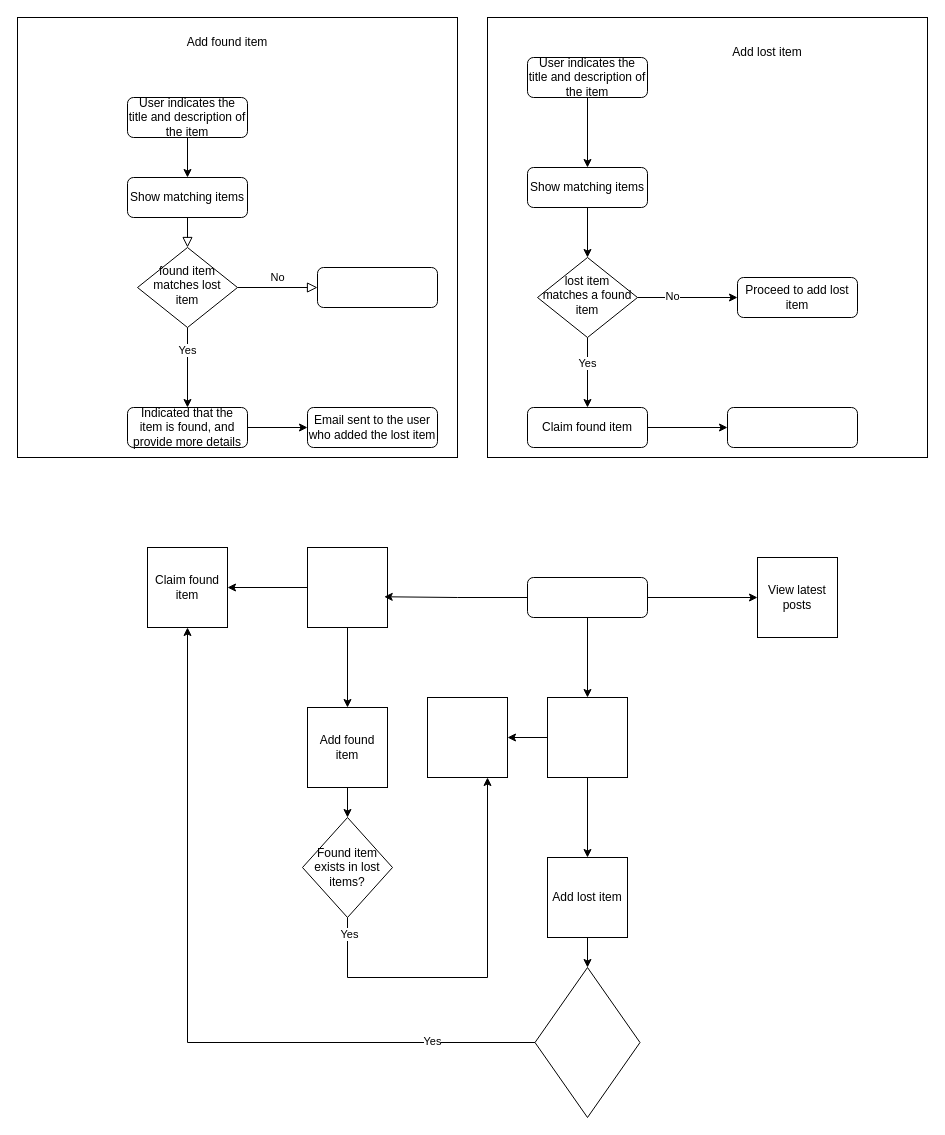
Image size: 945x1135. Some labels were removed from this diagram. Here are the shapes that lost their labels. From the top down, the centre of each, then its label:
At pixel 377 287: "Proceed to add found item".
At pixel 792 427: "Email sent to the user who added the found item".
At pixel 347 587: "View found items".
At pixel 587 597: "Start".
At pixel 467 737: "Indicate that lost item is found".
At pixel 587 737: "View lost items".
At pixel 587 1042: "Lost item exists in found items?".
